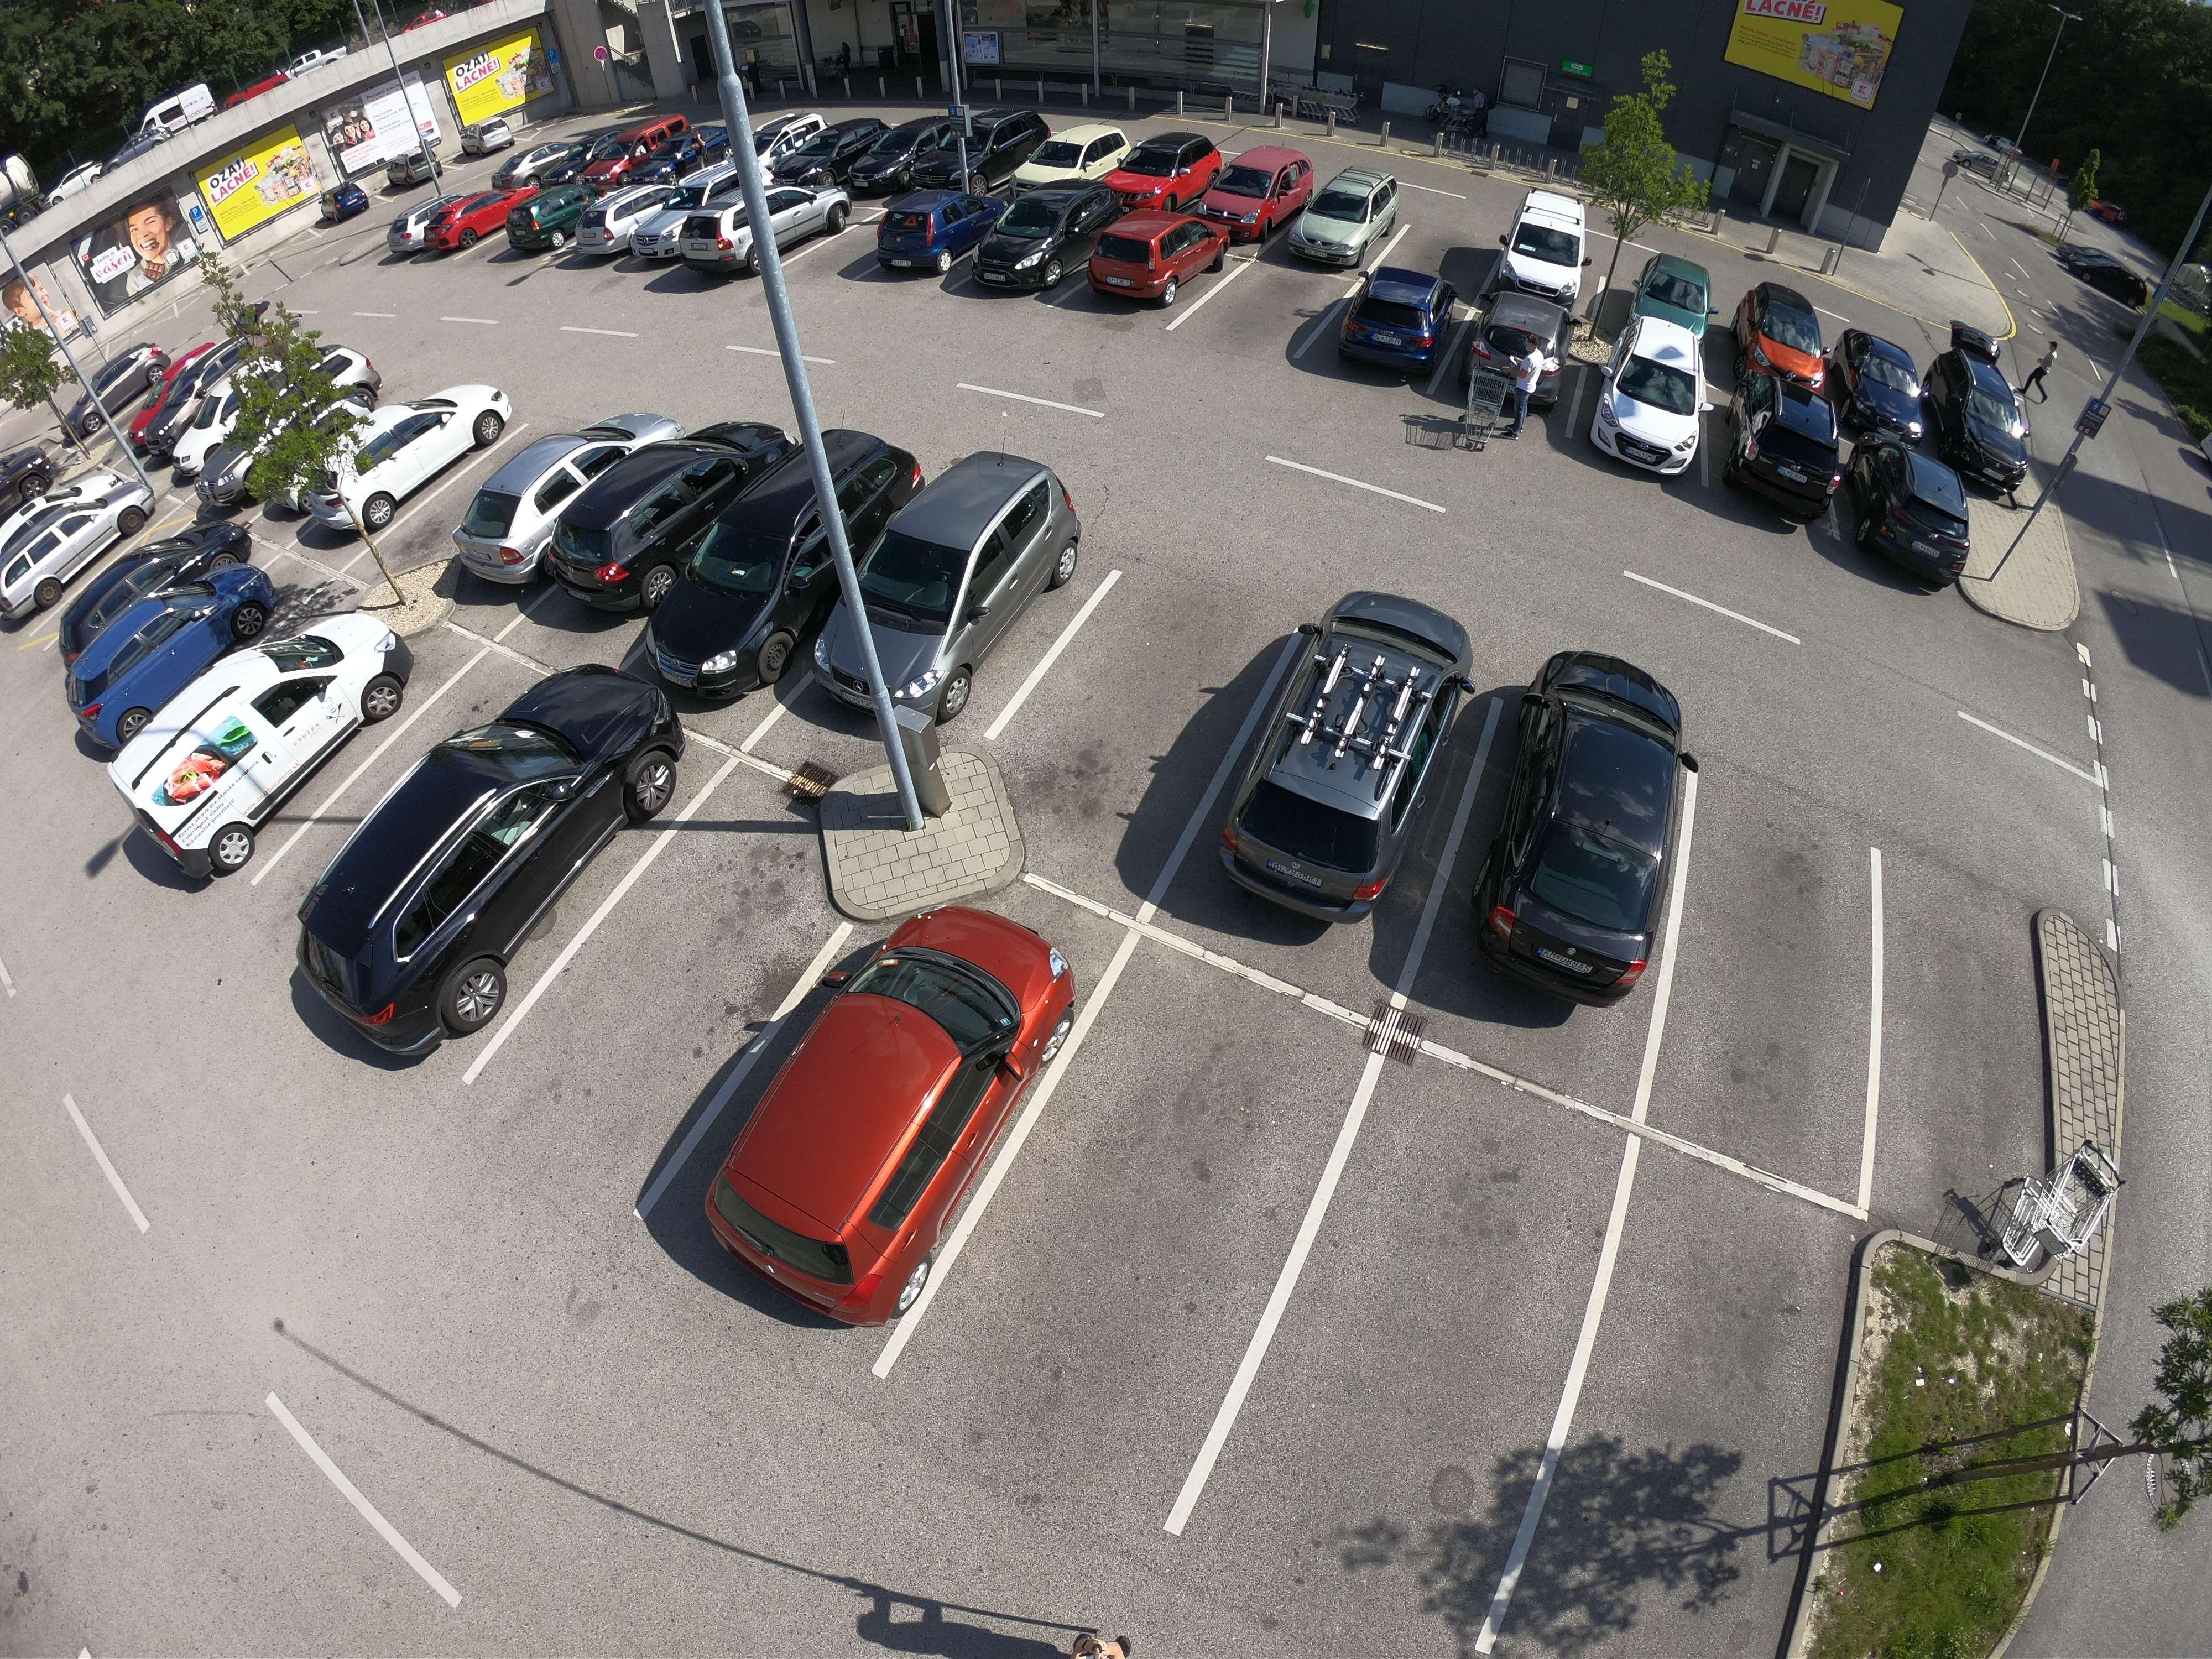empty: (690, 892, 1068, 1305), (310, 678, 646, 1033), (1461, 640, 1717, 995), (1214, 586, 1486, 910), (836, 457, 1080, 716), (671, 425, 887, 701), (146, 615, 376, 861), (75, 554, 272, 767), (556, 420, 744, 608), (300, 383, 498, 551), (1717, 296, 1857, 533), (1587, 268, 1728, 490), (458, 420, 622, 598), (1855, 436, 1989, 587), (0, 486, 134, 622), (1087, 195, 1226, 317), (1446, 301, 1569, 437), (1338, 261, 1468, 387), (974, 190, 1108, 301), (688, 167, 812, 284), (1935, 368, 2045, 495), (1284, 171, 1400, 274), (914, 106, 1040, 195), (869, 188, 979, 289), (1836, 335, 1935, 446), (1496, 188, 1597, 286), (1207, 152, 1317, 225), (1028, 117, 1139, 185), (1127, 125, 1216, 186)
occupied: (1303, 1232, 1552, 1473), (1033, 1084, 1273, 1314), (1609, 1321, 1832, 1513), (1688, 890, 1865, 1073), (599, 906, 780, 1058), (1895, 967, 2031, 1154), (1062, 648, 1216, 782), (327, 683, 455, 831), (406, 453, 503, 537), (1414, 230, 1487, 289), (815, 220, 881, 284), (1231, 281, 1305, 335)
